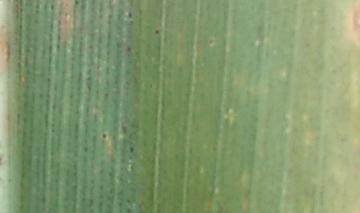tarspot: (205, 34, 217, 48), (126, 11, 135, 26), (99, 130, 111, 141), (152, 26, 161, 37), (128, 144, 136, 156), (70, 1, 83, 7), (125, 46, 133, 54)
